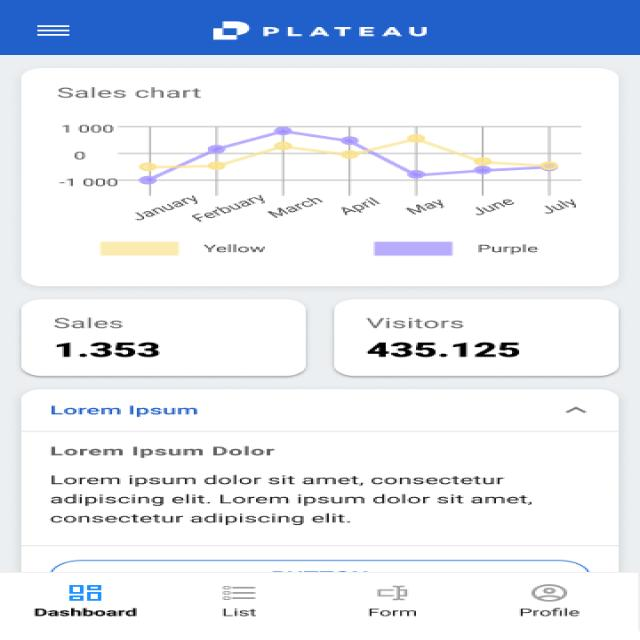Line: (44, 83, 592, 263)
QLabel: (41, 468, 544, 528), (39, 443, 283, 461), (364, 337, 530, 360), (46, 400, 206, 421), (52, 339, 167, 361), (365, 313, 471, 335), (30, 605, 144, 618), (48, 315, 133, 330), (515, 606, 586, 620), (363, 607, 422, 619), (218, 606, 262, 621)
VAppBar: (0, 0, 640, 57)
VBottomNavigation: (2, 571, 640, 640)
VBtn: (21, 577, 156, 624), (506, 578, 596, 626), (203, 579, 282, 625), (357, 578, 433, 625)
VCard: (18, 65, 624, 286), (16, 388, 622, 569), (16, 296, 311, 379), (329, 296, 624, 379)
VDivider: (23, 426, 612, 435), (23, 540, 613, 548)
VIcon: (528, 582, 572, 604), (217, 583, 263, 603), (551, 402, 603, 419), (66, 582, 110, 602), (28, 24, 82, 39), (372, 583, 412, 602)
VImg: (203, 16, 441, 44)
